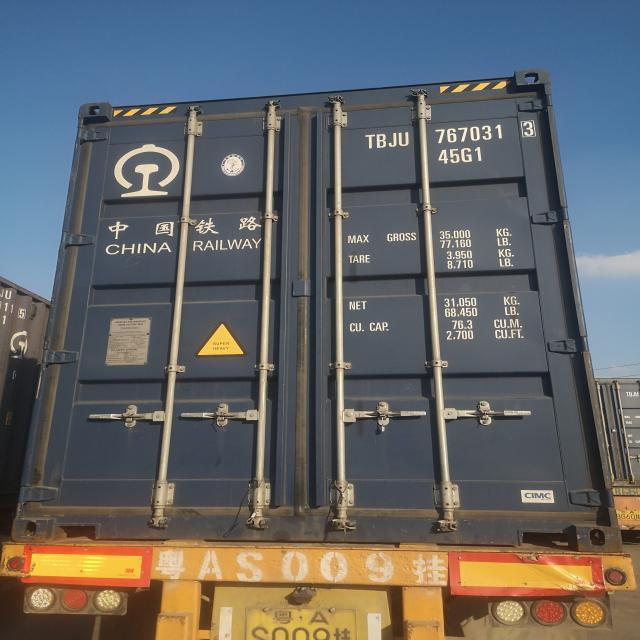ISO: (438, 146, 484, 166)
container_number: (364, 122, 536, 144)
